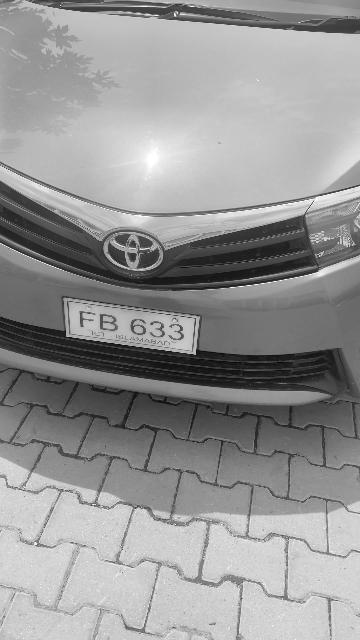Number: (75, 308, 189, 343)
